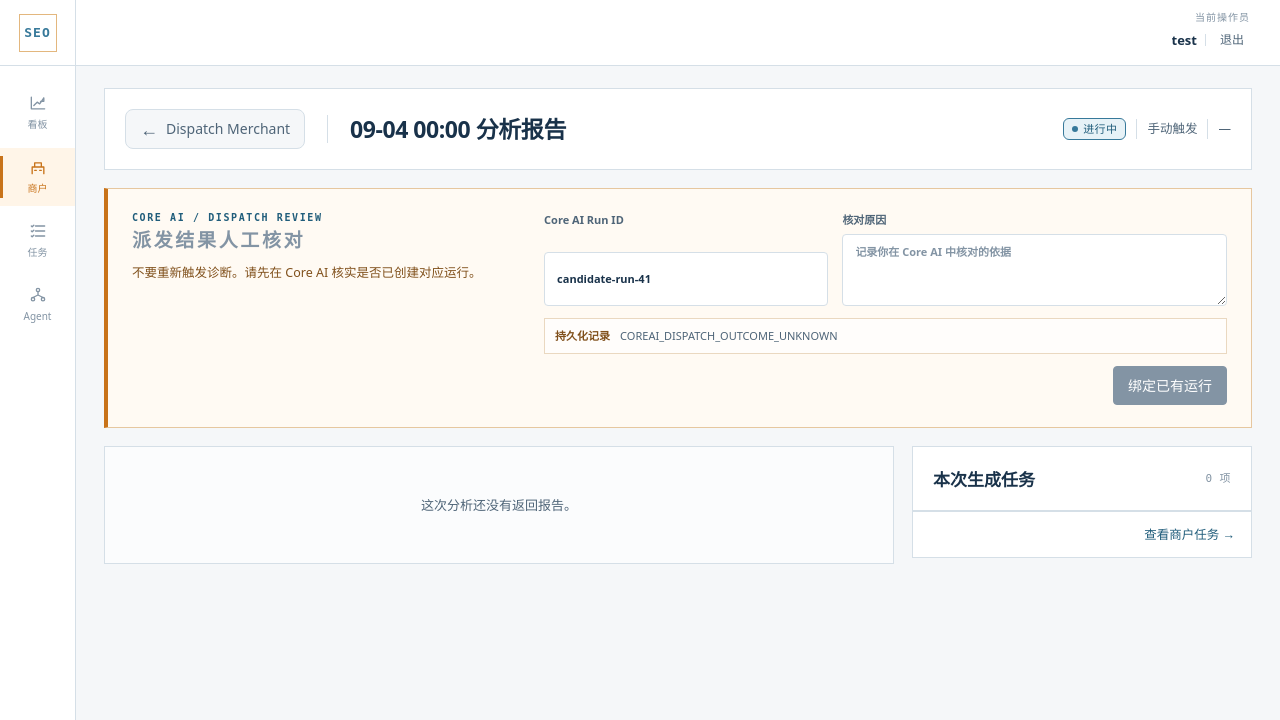
Scenario: run dispatch reconciliation › prefills the candidate run and binds a verified existing provider run
The image size is (1280, 720).
expect the field labelled "Core AI Run ID" holds "candidate-run-41": met, box [544,252,828,306]
expect the text "不要重新触发诊断。请先在 Core AI 核实是否已创建对应运行。" is shown: met, box [132,262,516,283]
Step 1. Type "已在 Core AI 核对同一商户与输入" into the text box labelled "核对原因" → (1035, 270), box [842,234,1227,306]
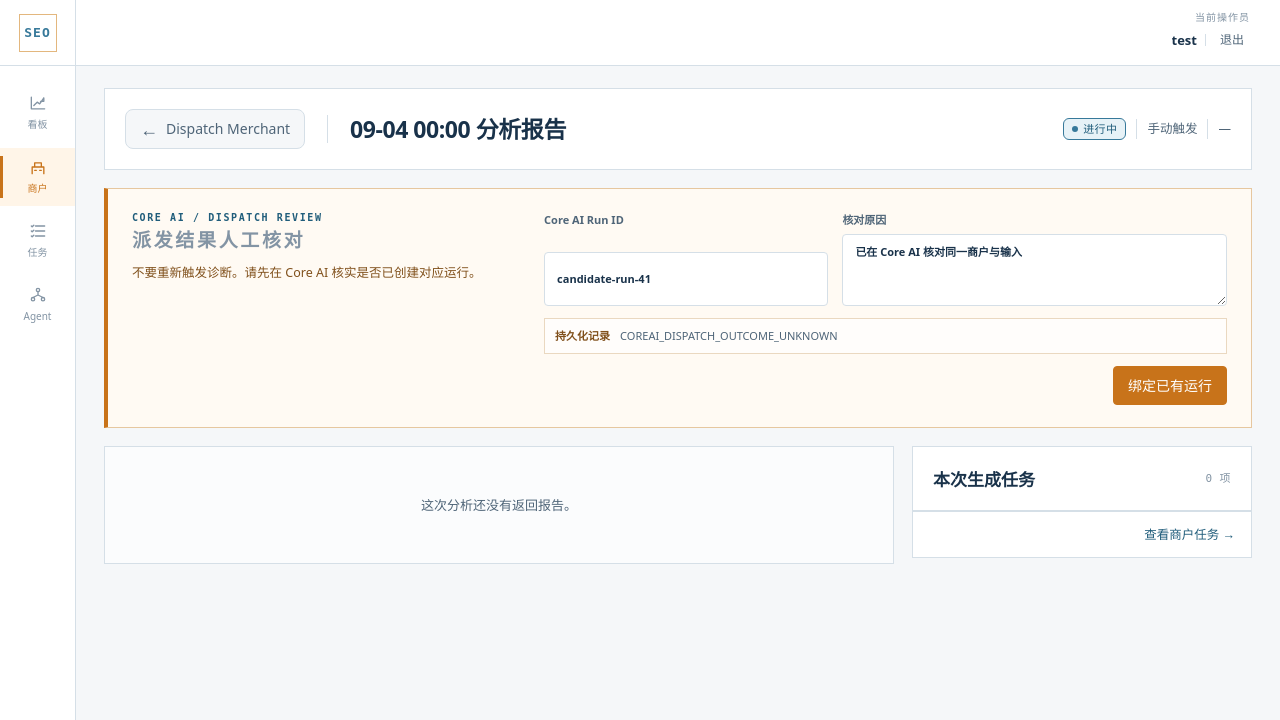
Step 2. Click the button "绑定已有运行" → (1170, 386), box [1113,366,1227,405]
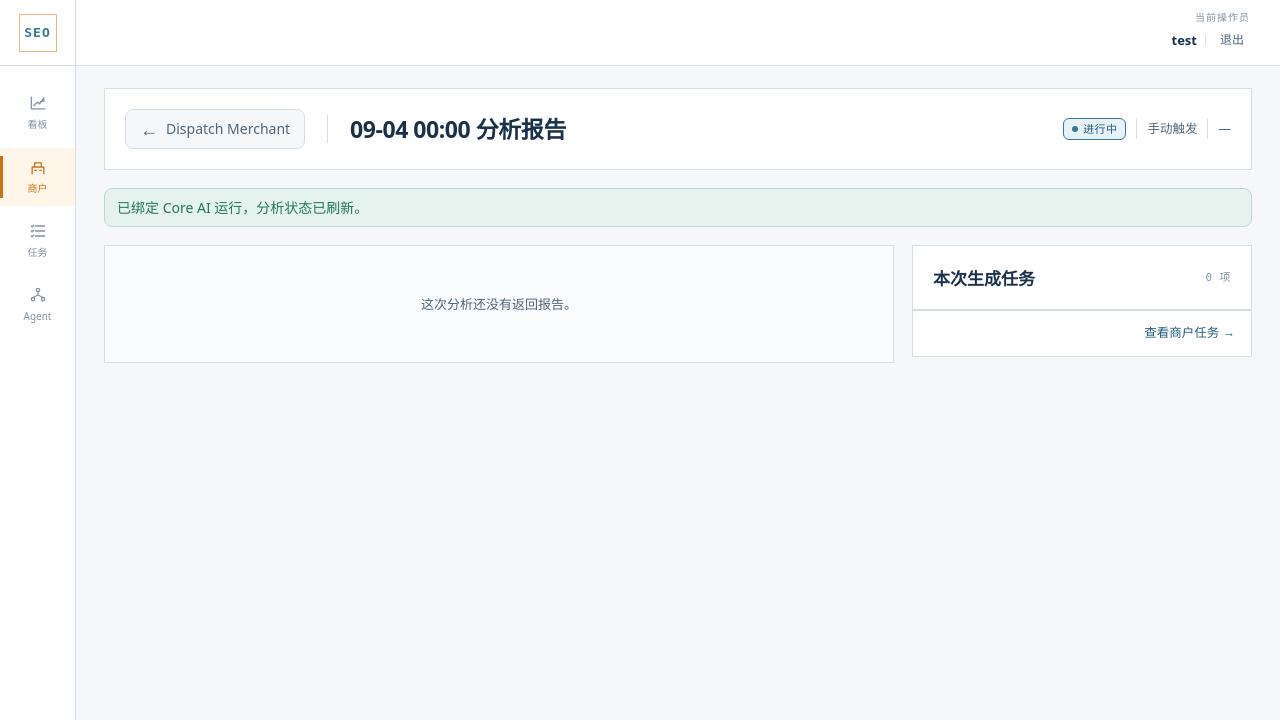
expect the text "已绑定 Core AI 运行，分析状态已刷新。" is shown: met, box [117,198,368,217]
expect the heading "派发结果人工核对" is gone: met
